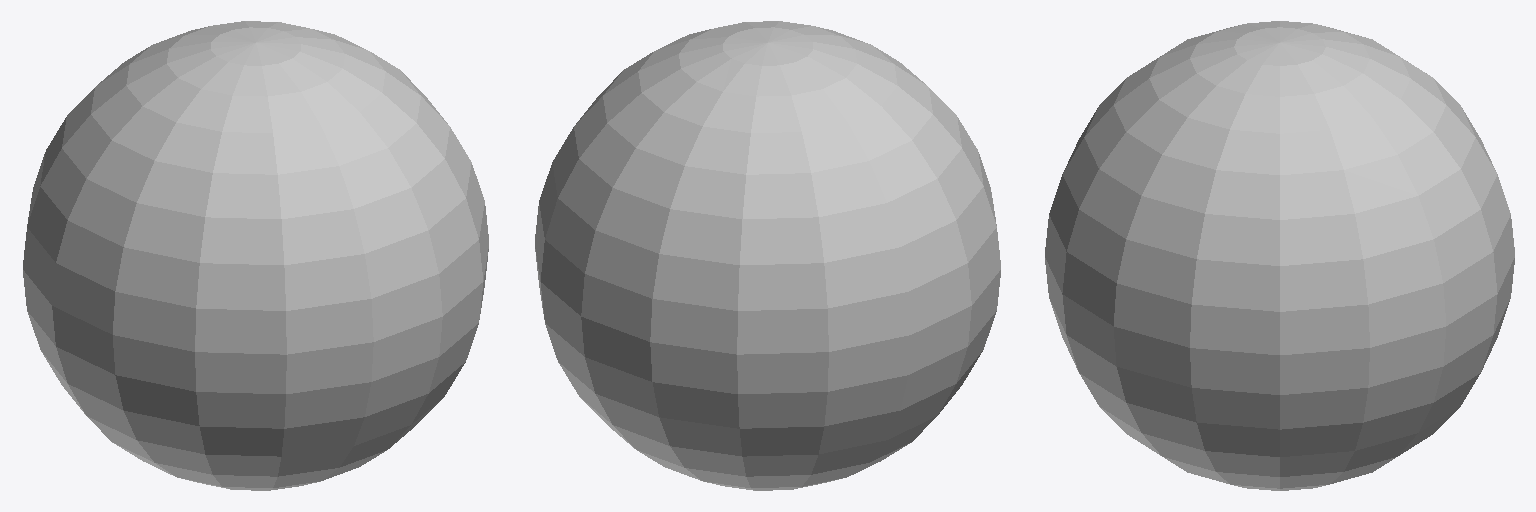
The model's file is morbid_snowmen3.obj.
The picture shows the model from 3 angles: view 1: azimuth 30°, elevation 25°; view 2: azimuth 150°, elevation 25°; view 3: azimuth 270°, elevation 25°; orthographic projection.
Visible parts, largest first — view 1: Sphere.007_Sphere.014; view 2: Sphere.007_Sphere.014; view 3: Sphere.007_Sphere.014.
Boxes of the visible parts, <box> form: Sphere.007_Sphere.014: <box>23,21,488,490</box>; Sphere.007_Sphere.014: <box>535,21,1000,490</box>; Sphere.007_Sphere.014: <box>1045,21,1514,490</box>.
Size of the model in its own units: 0.0244 by 0.0244 by 0.0244.